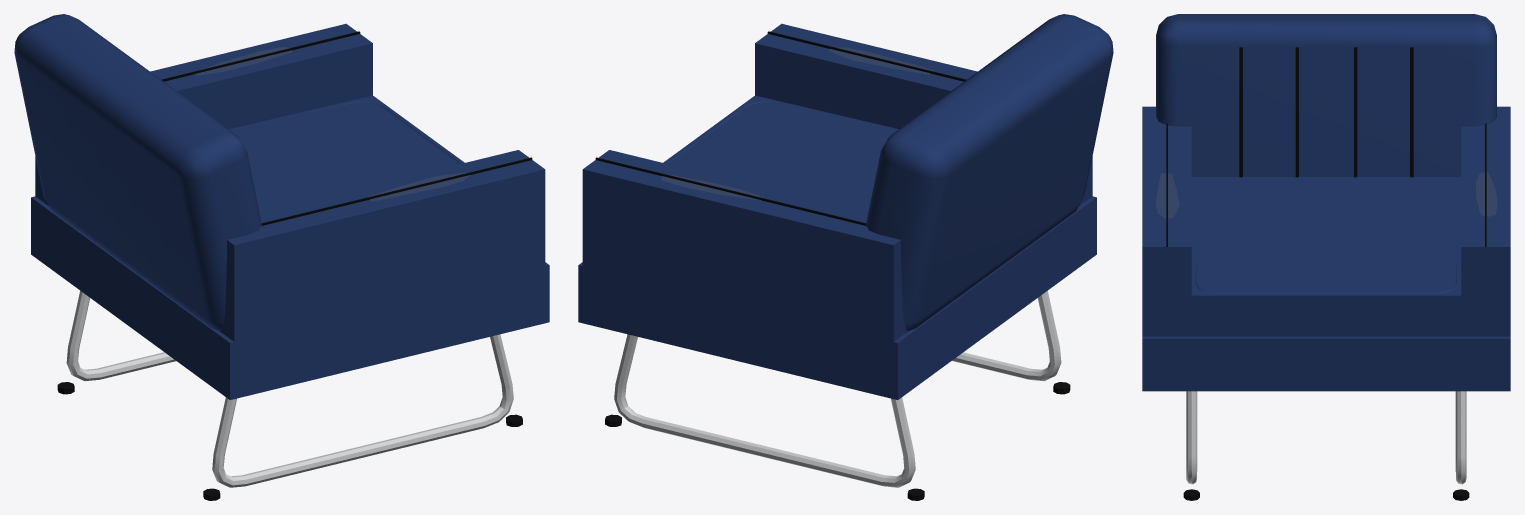
Rendered from lounge_chair@1.glb.
3 renders of one model, left to right at view 1: azimuth 30°, elevation 25°; view 2: azimuth 150°, elevation 25°; view 3: azimuth 270°, elevation 25°, orthographic. The views are drawn at different scales.
Visible parts, largest first — view 1: lounge_1, lounge_0, lounge_2, lounge_3, lounge_4; view 2: lounge_1, lounge_0, lounge_2, lounge_3, lounge_4; view 3: lounge_1, lounge_3, lounge_0, lounge_2.
Part boxes in pixels (left/top/right/bottom): lounge_1: left=14, top=14, right=549, bottom=399; lounge_0: left=66, top=291, right=513, bottom=487; lounge_2: left=195, top=46, right=470, bottom=201; lounge_3: left=161, top=31, right=532, bottom=225; lounge_4: left=57, top=382, right=522, bottom=500; lounge_1: left=578, top=14, right=1113, bottom=399; lounge_0: left=614, top=290, right=1061, bottom=487; lounge_2: left=661, top=47, right=934, bottom=200; lounge_3: left=595, top=31, right=966, bottom=225; lounge_4: left=605, top=382, right=1070, bottom=500; lounge_1: left=1142, top=14, right=1510, bottom=391; lounge_3: left=1166, top=47, right=1486, bottom=246; lounge_0: left=1186, top=391, right=1466, bottom=484; lounge_2: left=1155, top=171, right=1497, bottom=218.
Bounding box in the file's own units: 0.8379 × 0.837 × 0.82.
